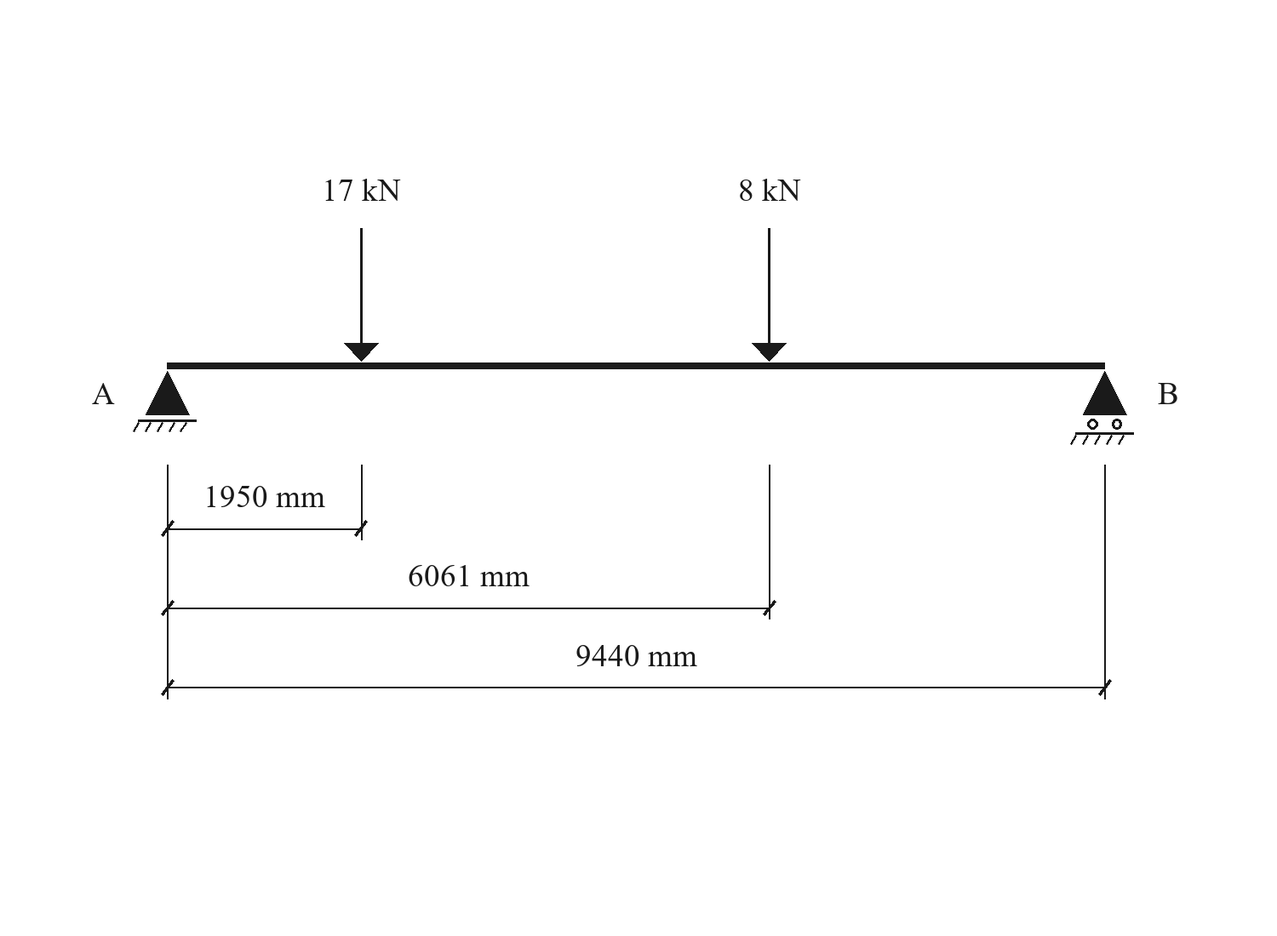pin_support: (133, 371, 197, 432)
point_load: (344, 228, 379, 362), (752, 228, 787, 362)
roller_support: (1070, 371, 1134, 445)
